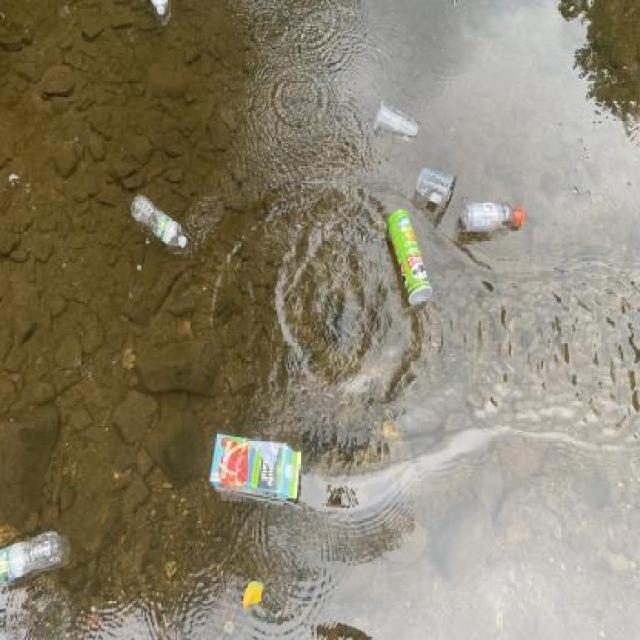Can-Metal: (378, 201, 436, 310)
Cardboard: (203, 432, 306, 504)
Plastic: (0, 516, 67, 593), (123, 188, 191, 256), (361, 95, 429, 146), (409, 163, 464, 218), (456, 196, 528, 237), (149, 0, 177, 25)
